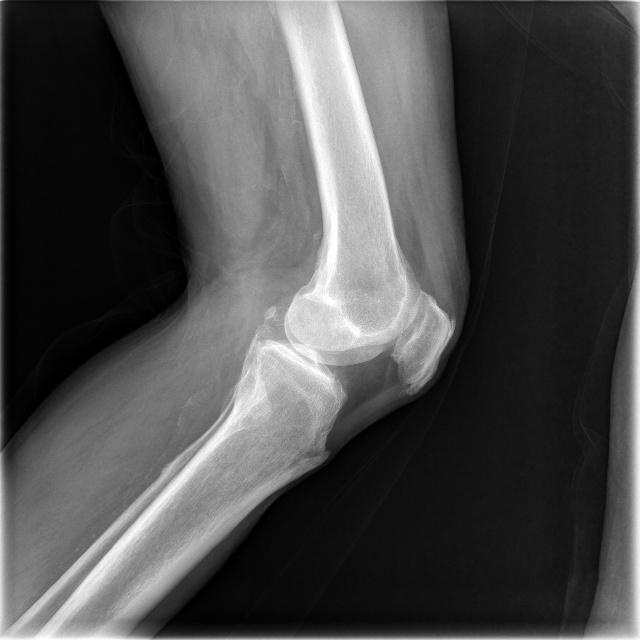Knee: (238, 278, 455, 454)
